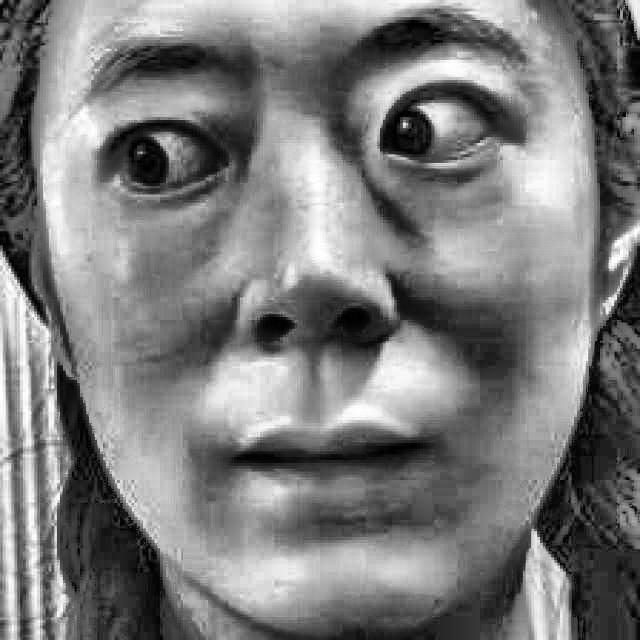fear: (68, 5, 554, 521)
